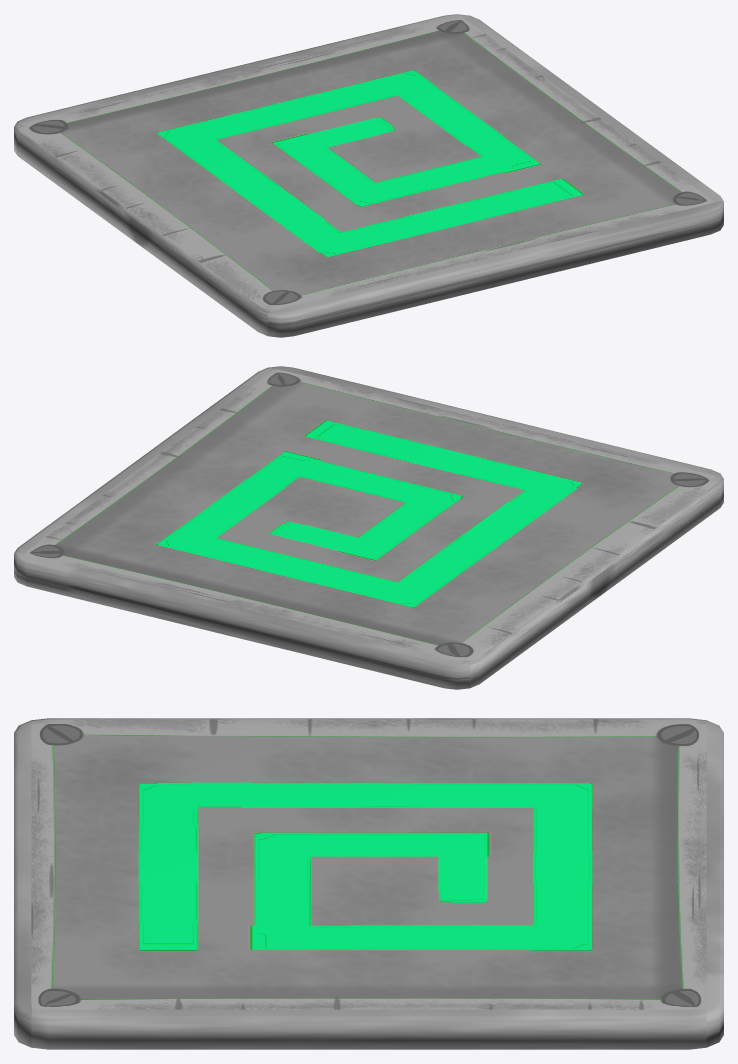
Rendered from Spring.fbx.
3 views of the same model, one above another, from view 1: azimuth 30°, elevation 25°; view 2: azimuth 150°, elevation 25°; view 3: azimuth 270°, elevation 25° (orthographic). The views are drawn at different scales.
Visible parts, largest first — view 1: Cube.001; view 2: Cube.001; view 3: Cube.001.
Boxes of the visible parts, <box> form: Cube.001: <box>14,14,723,337</box>; Cube.001: <box>14,366,723,689</box>; Cube.001: <box>14,718,723,1049</box>.
Bounding box in the file's own units: 100 × 5.39 × 100.
